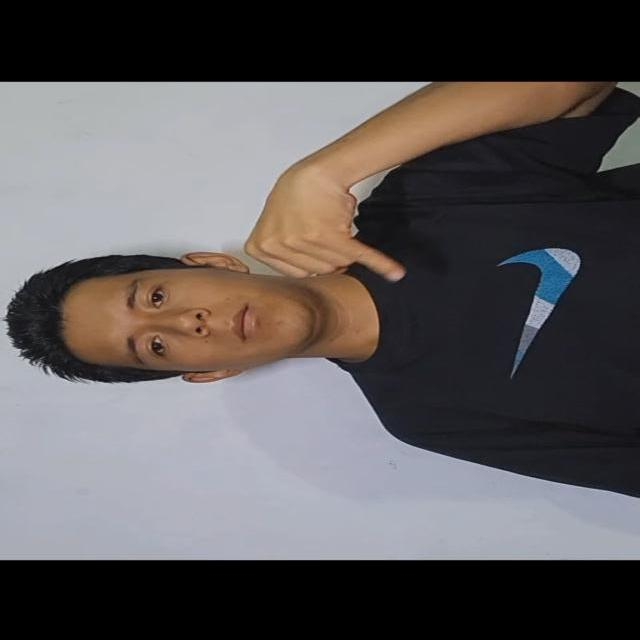J: (230, 154, 423, 294)
